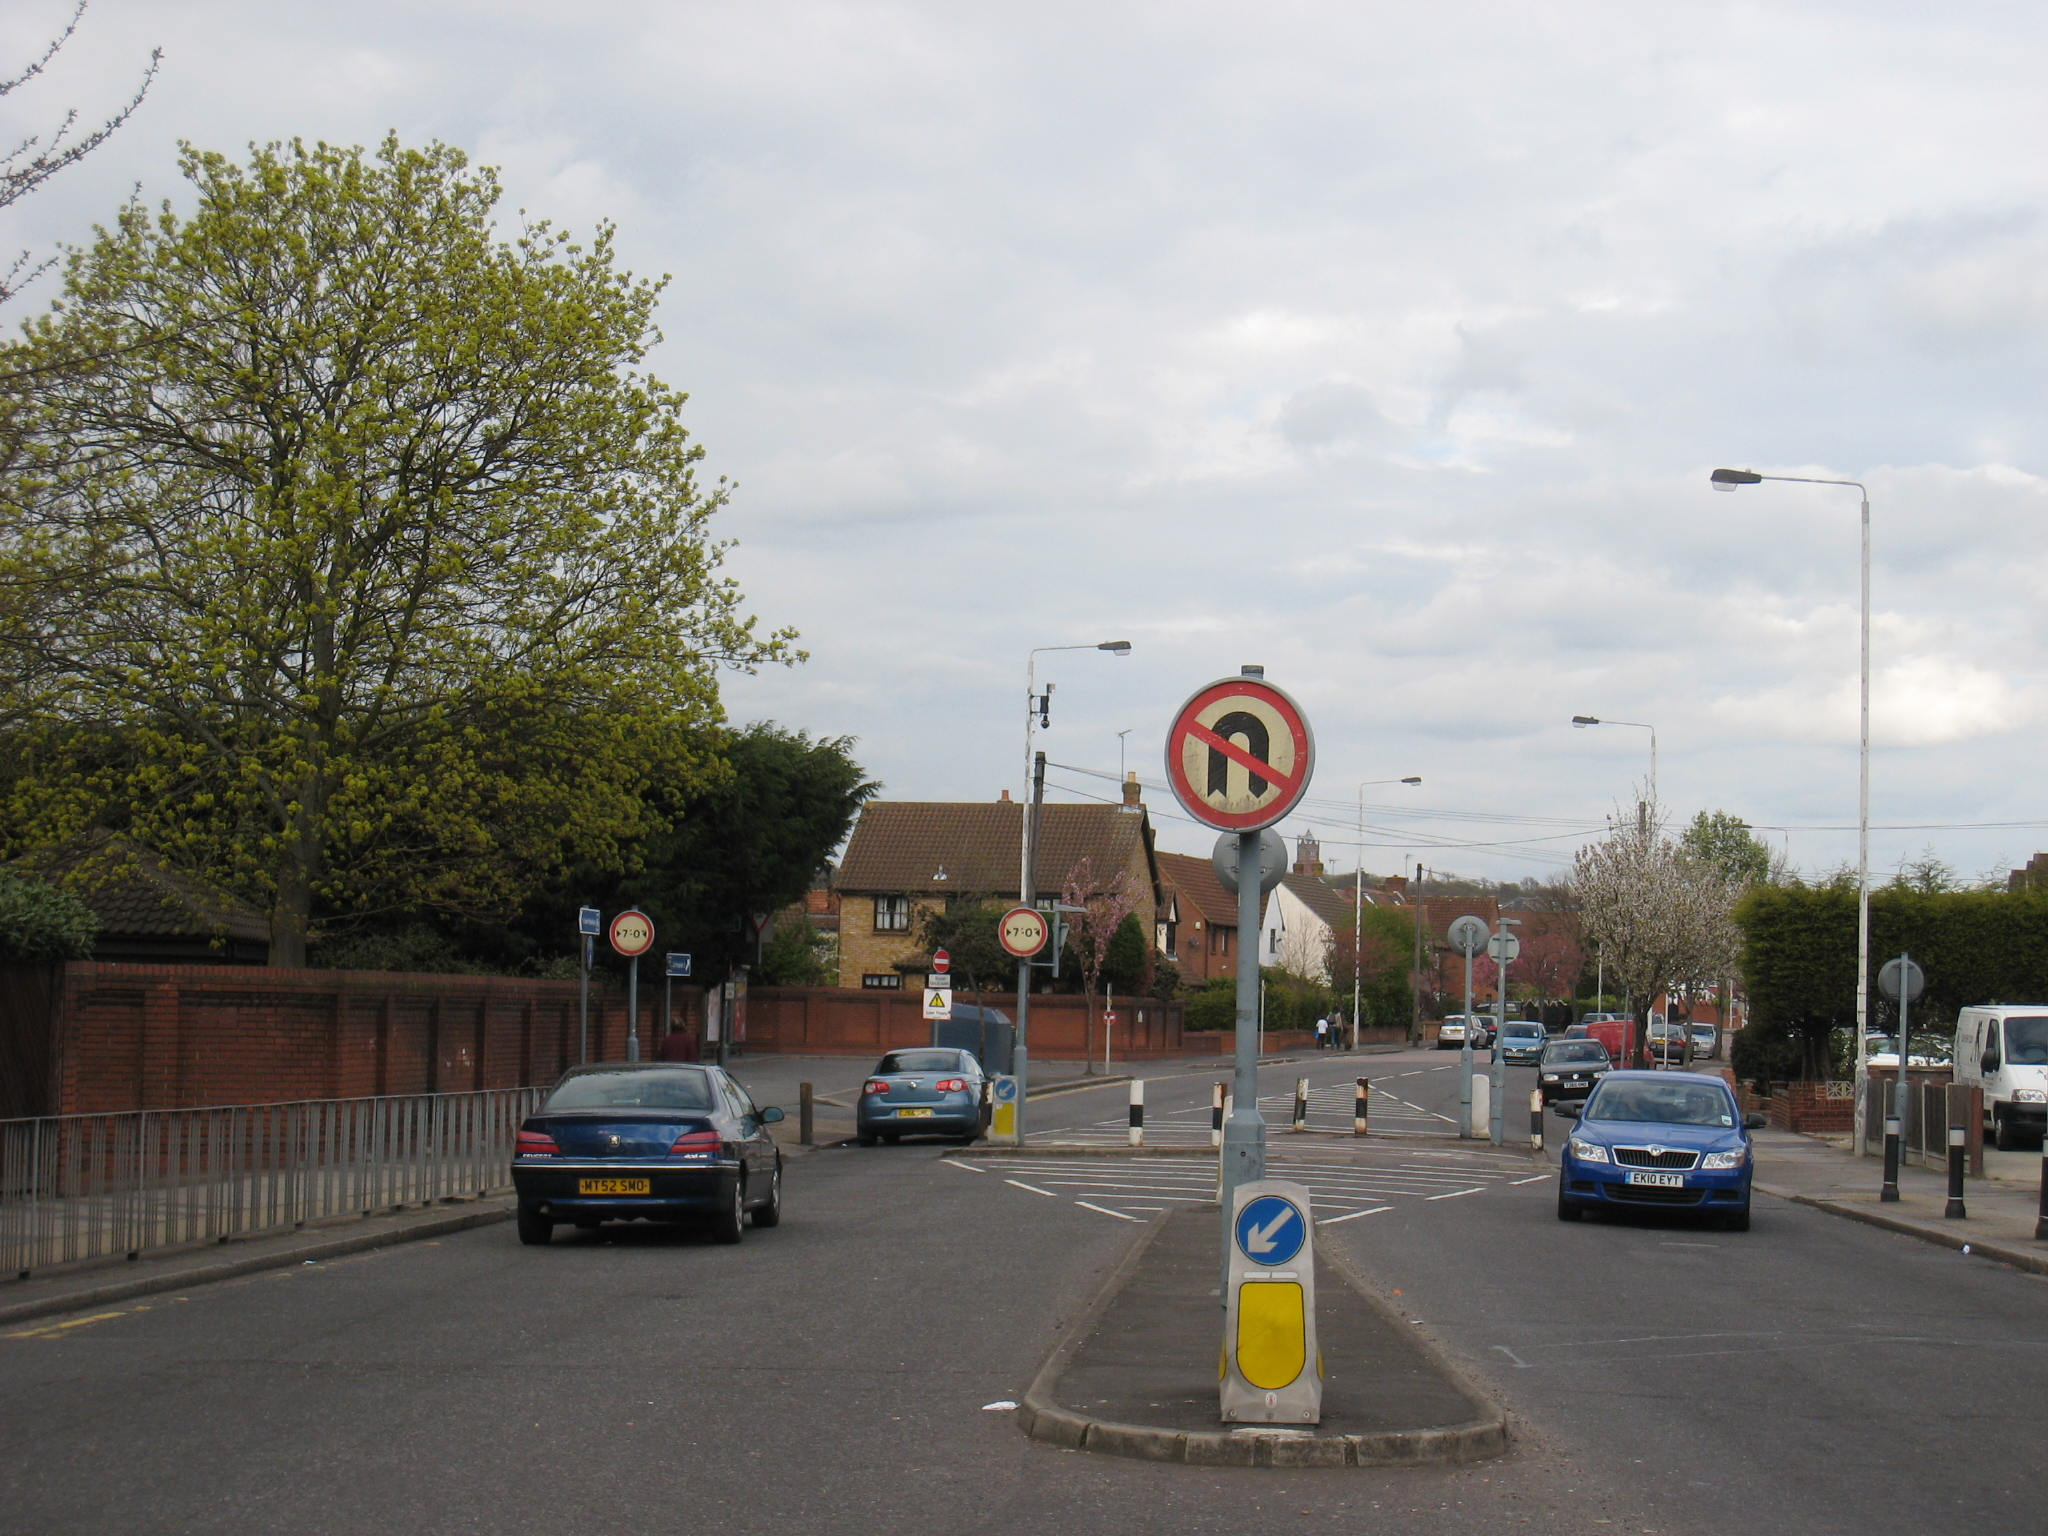No_u_turn: (1164, 679, 1316, 833)
